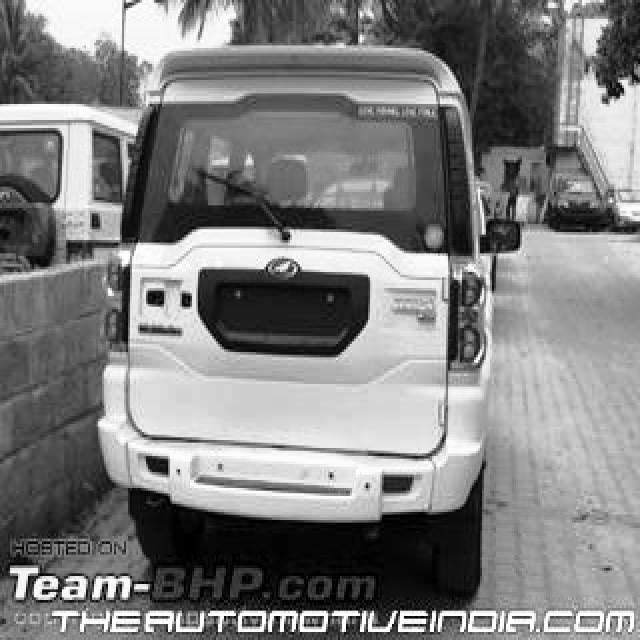Car: (101, 46, 521, 592)
